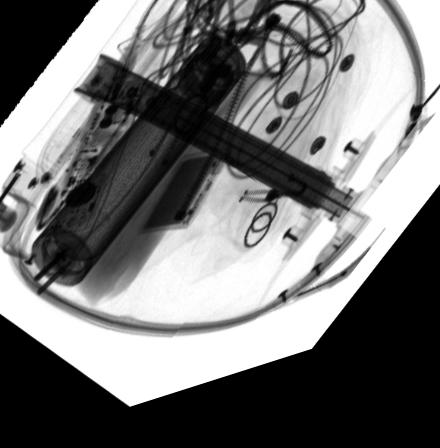Powerbank: (136, 164, 231, 241)
